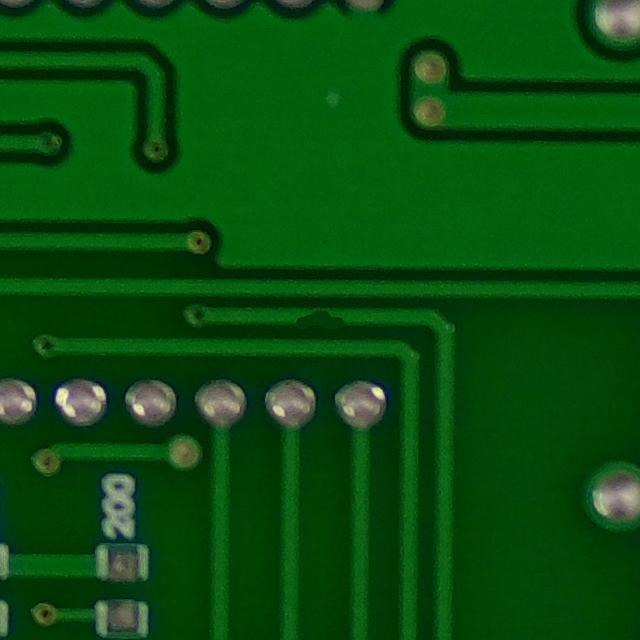mouse_bite: (284, 297, 356, 343)
